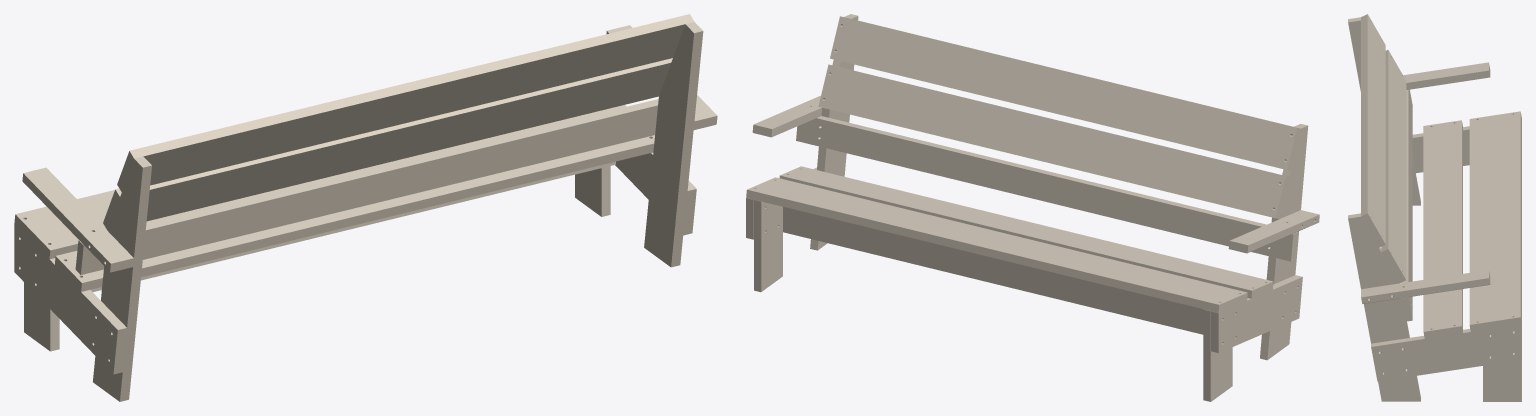
The picture shows the model from 3 angles, left to right: view 1: azimuth 30°, elevation 25°; view 2: azimuth 150°, elevation 25°; view 3: azimuth 270°, elevation 25°; orthographic projection. The views are drawn at different scales.
Visible parts, largest first — view 1: mesh76_mesh76-geometry, mesh66_mesh66-geometry, mesh151_mesh151-geometry, mesh106_mesh106-geometry, mesh11_mesh11-geometry, mesh25_mesh25-geometry, mesh48_mesh48-geometry, mesh58_mesh58-geometry, mesh86_mesh86-geometry, mesh1_mesh1-geometry, mesh120_mesh120-geometry, mesh96_mesh96-geometry (+1 smaller); view 2: mesh76_mesh76-geometry, mesh66_mesh66-geometry, mesh48_mesh48-geometry, mesh86_mesh86-geometry, mesh151_mesh151-geometry, mesh25_mesh25-geometry, mesh11_mesh11-geometry, mesh96_mesh96-geometry, mesh1_mesh1-geometry, mesh58_mesh58-geometry, mesh143_mesh143-geometry, mesh106_mesh106-geometry; view 3: mesh48_mesh48-geometry, mesh76_mesh76-geometry, mesh151_mesh151-geometry, mesh120_mesh120-geometry, mesh106_mesh106-geometry, mesh143_mesh143-geometry, mesh66_mesh66-geometry, mesh96_mesh96-geometry, mesh58_mesh58-geometry, mesh11_mesh11-geometry, mesh25_mesh25-geometry.
Part boxes in pixels (box(x1,y1,x2,y2)): mesh76_mesh76-geometry: box(103, 14, 694, 230); mesh66_mesh66-geometry: box(75, 99, 658, 274); mesh151_mesh151-geometry: box(55, 135, 654, 291); mesh106_mesh106-geometry: box(644, 22, 703, 267); mesh11_mesh11-geometry: box(93, 156, 151, 401); mesh25_mesh25-geometry: box(14, 223, 126, 374); mesh48_mesh48-geometry: box(14, 105, 626, 259); mesh58_mesh58-geometry: box(22, 167, 133, 272); mesh86_mesh86-geometry: box(90, 161, 615, 291); mesh1_mesh1-geometry: box(24, 282, 59, 351); mesh120_mesh120-geometry: box(615, 152, 696, 235); mesh96_mesh96-geometry: box(575, 166, 610, 216); mesh76_mesh76-geometry: box(818, 16, 1300, 218); mesh66_mesh66-geometry: box(796, 116, 1297, 261); mesh48_mesh48-geometry: box(746, 177, 1247, 312); mesh86_mesh86-geometry: box(783, 207, 1203, 334); mesh151_mesh151-geometry: box(779, 166, 1273, 298); mesh25_mesh25-geometry: box(1211, 275, 1302, 352); mesh11_mesh11-geometry: box(1260, 124, 1308, 360); mesh96_mesh96-geometry: box(754, 199, 782, 291); mesh1_mesh1-geometry: box(1203, 309, 1232, 401); mesh58_mesh58-geometry: box(1228, 210, 1319, 253); mesh143_mesh143-geometry: box(752, 95, 822, 137); mesh106_mesh106-geometry: box(810, 14, 858, 250); mesh48_mesh48-geometry: box(1469, 111, 1521, 331); mesh76_mesh76-geometry: box(1361, 14, 1406, 283); mesh151_mesh151-geometry: box(1423, 120, 1462, 338); mesh120_mesh120-geometry: box(1371, 324, 1521, 381); mesh106_mesh106-geometry: box(1348, 213, 1420, 401); mesh143_mesh143-geometry: box(1361, 270, 1490, 303); mesh66_mesh66-geometry: box(1400, 89, 1412, 321); mesh96_mesh96-geometry: box(1483, 360, 1521, 401); mesh58_mesh58-geometry: box(1403, 62, 1490, 89); mesh11_mesh11-geometry: box(1348, 17, 1420, 205); mesh25_mesh25-geometry: box(1412, 126, 1469, 173).
Size of the model in its own units: 0.8832 by 0.3599 by 0.3007.
